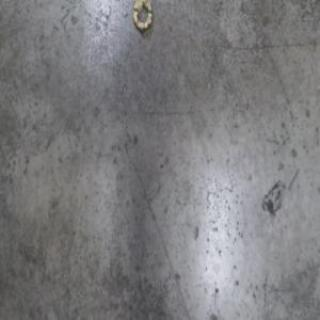Nuttrack_idkeyframe: (131, 0, 151, 36)
